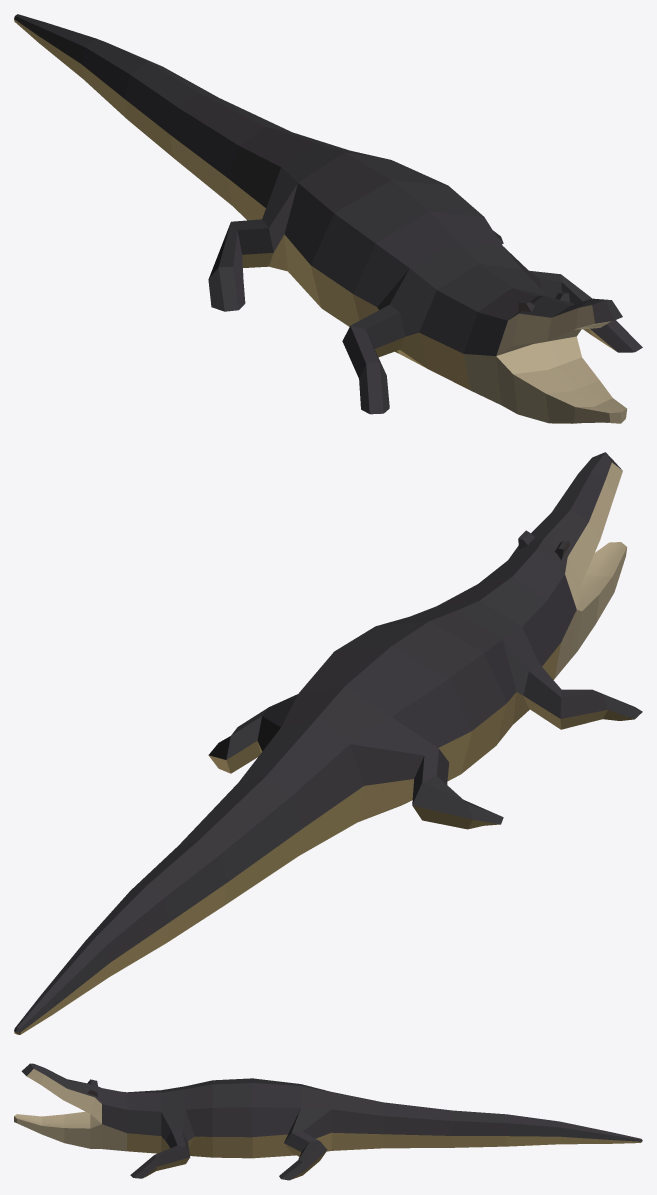
File: 4b11bdab-4e99-42a6-9919-3a27e1f3b44a.glb
3 renders of one model, top to bottom at view 1: azimuth 30°, elevation 25°; view 2: azimuth 150°, elevation 25°; view 3: azimuth 270°, elevation 25°, orthographic. The views are drawn at different scales.
Parts seen in each view (by area): view 1: Geo_Crocodile; view 2: Geo_Crocodile; view 3: Geo_Crocodile.
Boxes of the visible parts, bbox=[...] form: Geo_Crocodile: bbox=[14, 14, 642, 423]; Geo_Crocodile: bbox=[14, 452, 642, 1034]; Geo_Crocodile: bbox=[14, 1063, 642, 1180].
Size of the model in its own units: 69.89 by 36.64 by 253.
Materials: 1 (1 with a texture image).
